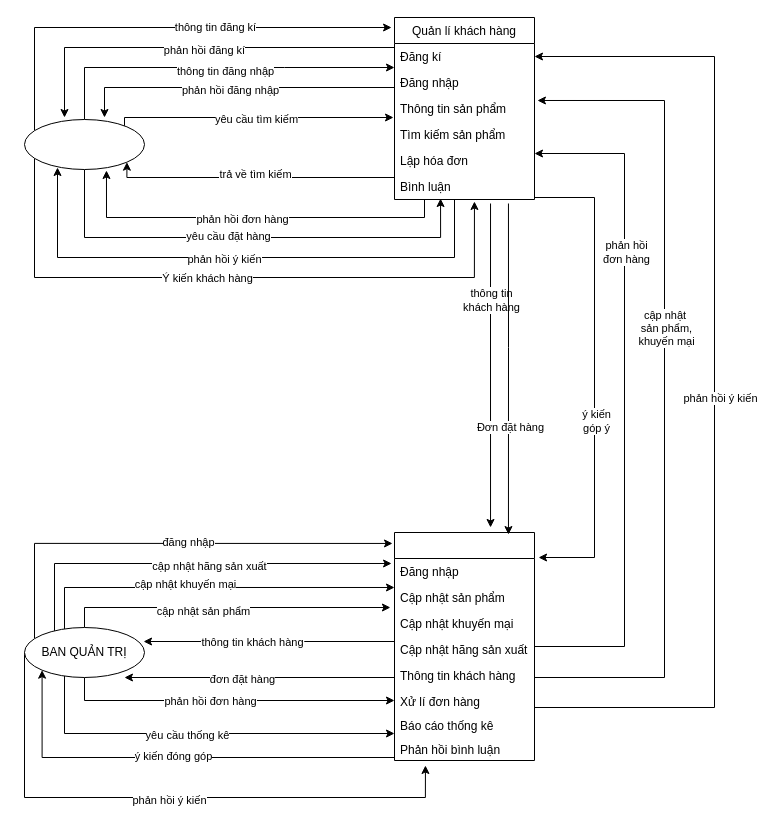
Image size: 774x824. Some labels were removed from this diagram. The shapes that lost their labels are listed below. From the top down, each one's box as (x1, y1, x2, y2) in pixels, then its label:
(24, 118, 144, 170): KHÁCH HÀNG
(394, 532, 534, 760): Quản lí quản trị
